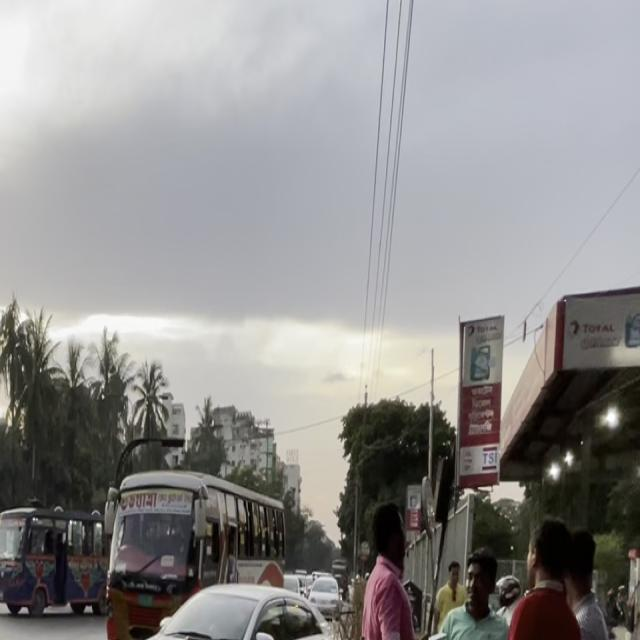bus: (102, 456, 295, 640), (0, 492, 108, 627)
car: (114, 546, 358, 640)
